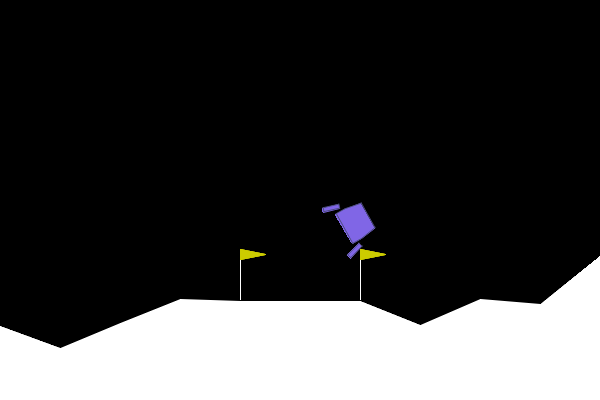lander: (320, 189, 384, 260)
